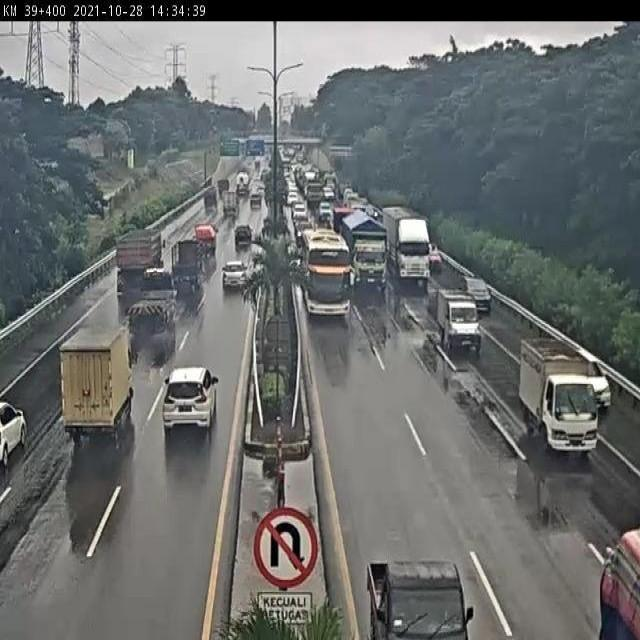big truck: (519, 328, 604, 465), (119, 220, 162, 287), (301, 179, 328, 204), (238, 168, 250, 200)
car: (369, 540, 470, 640), (66, 319, 136, 444), (299, 225, 357, 324), (164, 360, 216, 439), (439, 287, 484, 360), (0, 383, 27, 476), (576, 348, 612, 411), (175, 236, 202, 297), (463, 275, 494, 316), (196, 221, 220, 256), (226, 259, 246, 292), (426, 241, 445, 275), (235, 219, 254, 252), (204, 179, 218, 217), (224, 188, 238, 220), (294, 199, 308, 224), (249, 190, 261, 213), (321, 200, 332, 225), (218, 174, 229, 198), (288, 191, 298, 208), (349, 192, 360, 204), (325, 188, 333, 199)
small bus: (301, 163, 314, 172)
small truck: (385, 200, 434, 291), (348, 209, 393, 296), (140, 265, 174, 328)
